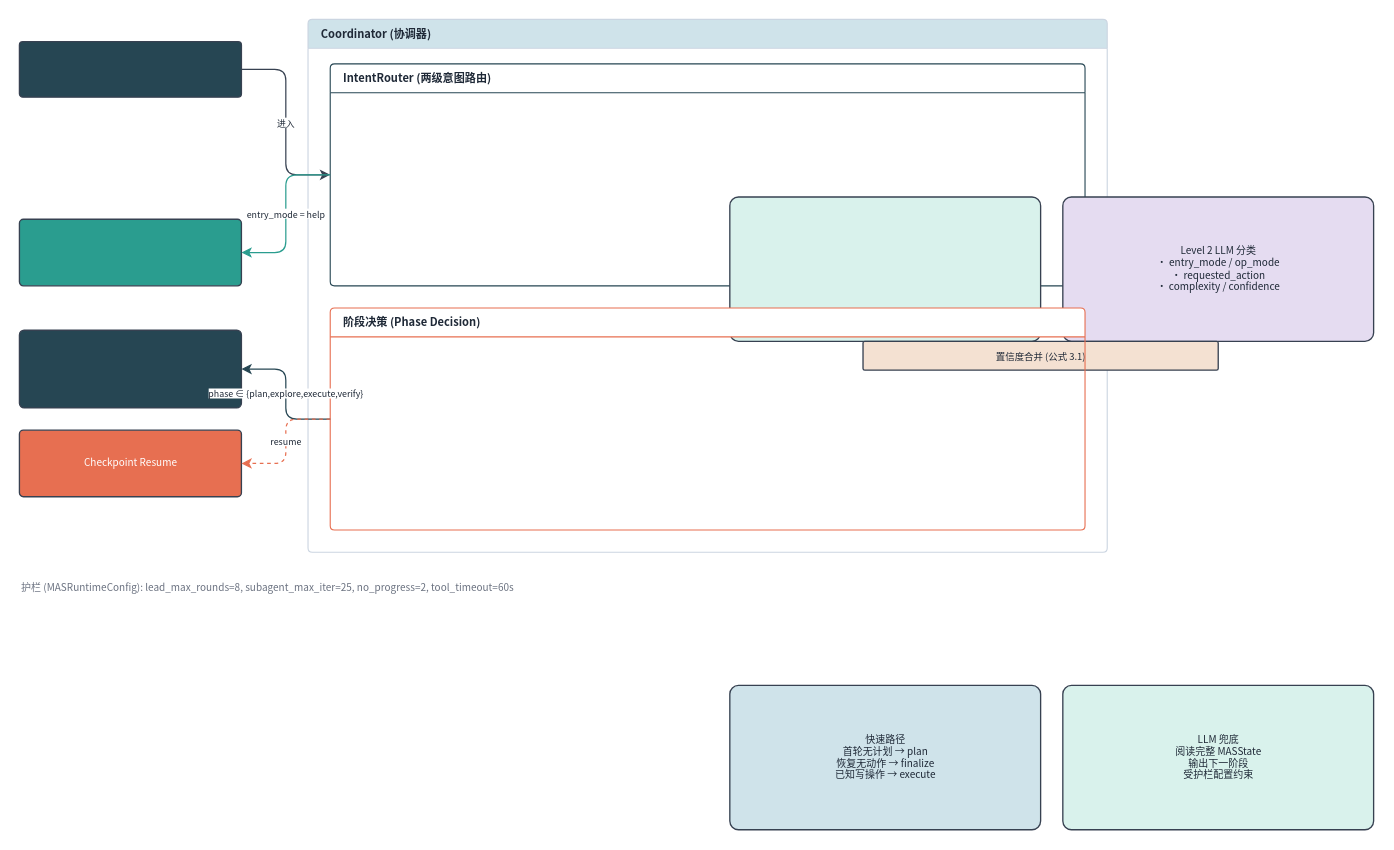
Some shapes in this 1394 by 850 pixel diagram are drawn without their labels. The shapes that lost their labels are listed below. From the top down, each one's centre as x and y in pixels, then its label:
At (x=130, y=68): "用户请求 / 续接事件".
At (x=130, y=252): "Guide / General 快速回答".
At (x=885, y=268): "Level 1 确定性启发式 · 续接状态 · 页面上下文 · 简单帮助匹配".
At (x=130, y=368): "Planner → Explorer → Executor → Verifier".
